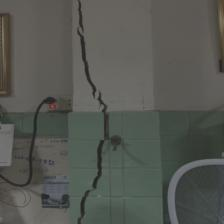High: (66, 1, 129, 224)
